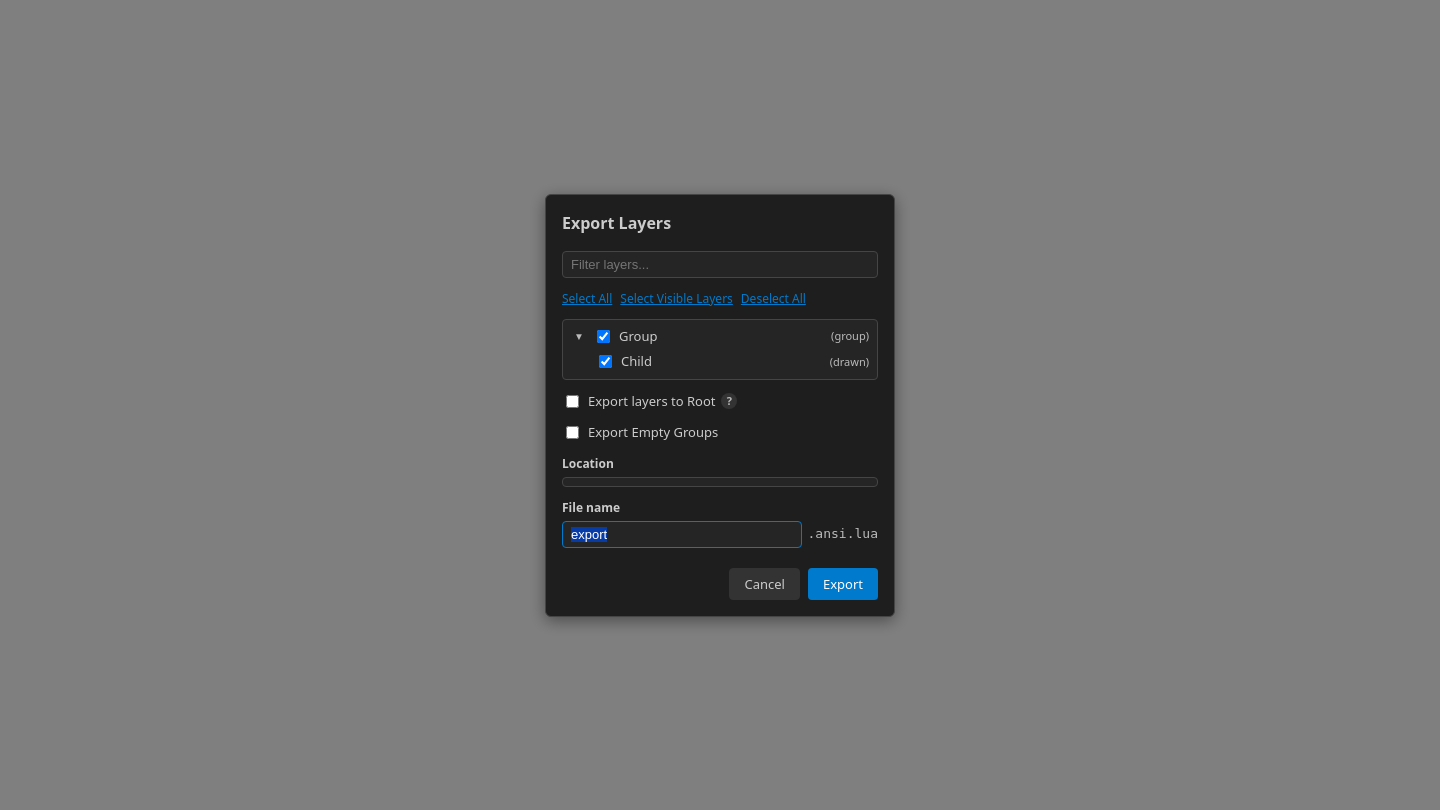
Test case: ExportLayersDialog — tags, groups, dedup › collapsible groups › clicking collapse toggle hides children
This screenshot has width=1440, height=810.
Expected: the element with test id "export-layer-c-1" is shown, [563, 349, 877, 374]
Click the button with test id "export-collapse-g-1": [579, 336] box [571, 328, 587, 344]
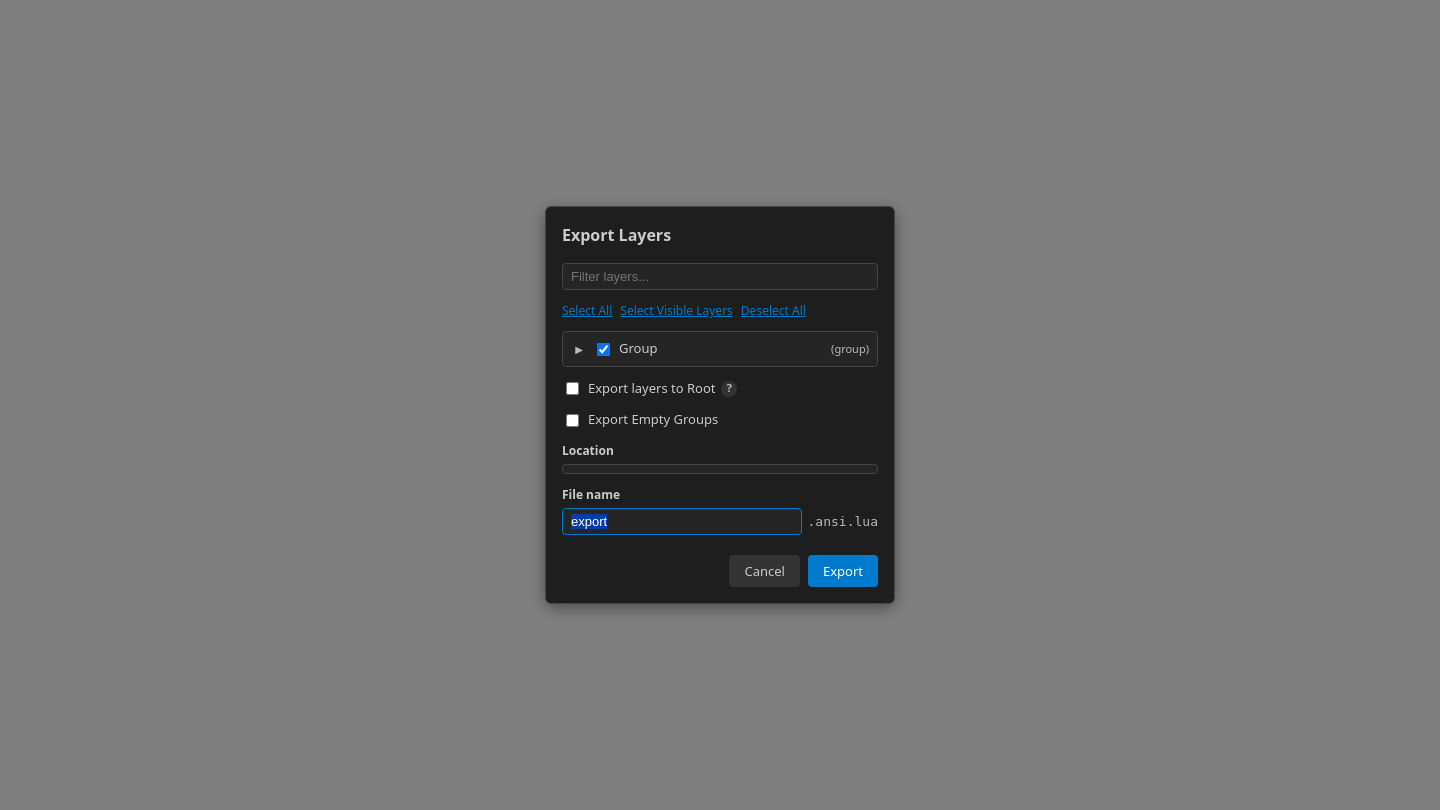
Result: the element with test id "export-layer-c-1" is gone
